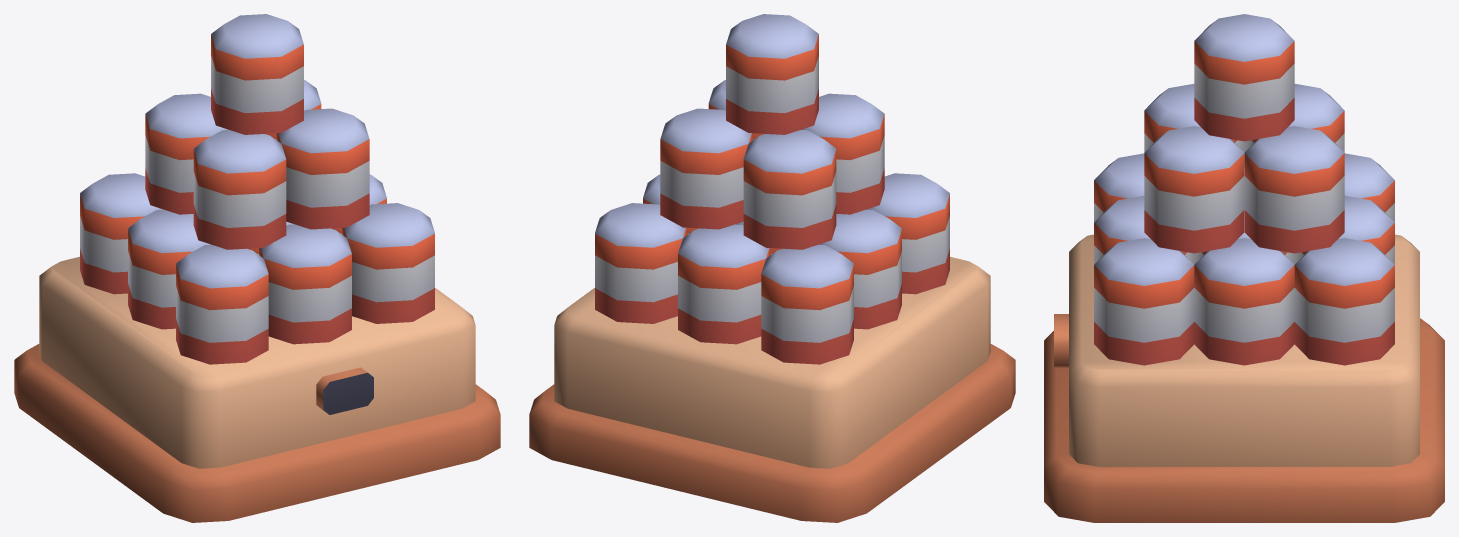
Rendered from display-cans.obj.
3 renders of one model, left to right at view 1: azimuth 30°, elevation 25°; view 2: azimuth 150°, elevation 25°; view 3: azimuth 270°, elevation 25°, orthographic. The views are drawn at different scales.
Visible parts, largest first — view 1: can, display-cans; view 2: can, display-cans; view 3: can, display-cans.
Part boxes in pixels (x1,y1,x2,y2): can: [80, 14, 434, 364]; display-cans: [14, 256, 500, 522]; can: [595, 14, 949, 364]; display-cans: [529, 256, 1015, 522]; can: [1094, 14, 1394, 365]; display-cans: [1044, 234, 1444, 522].
Size of the model in its own units: 0.8 by 0.9 by 0.8.
Materials: 1 (1 with a texture image).
